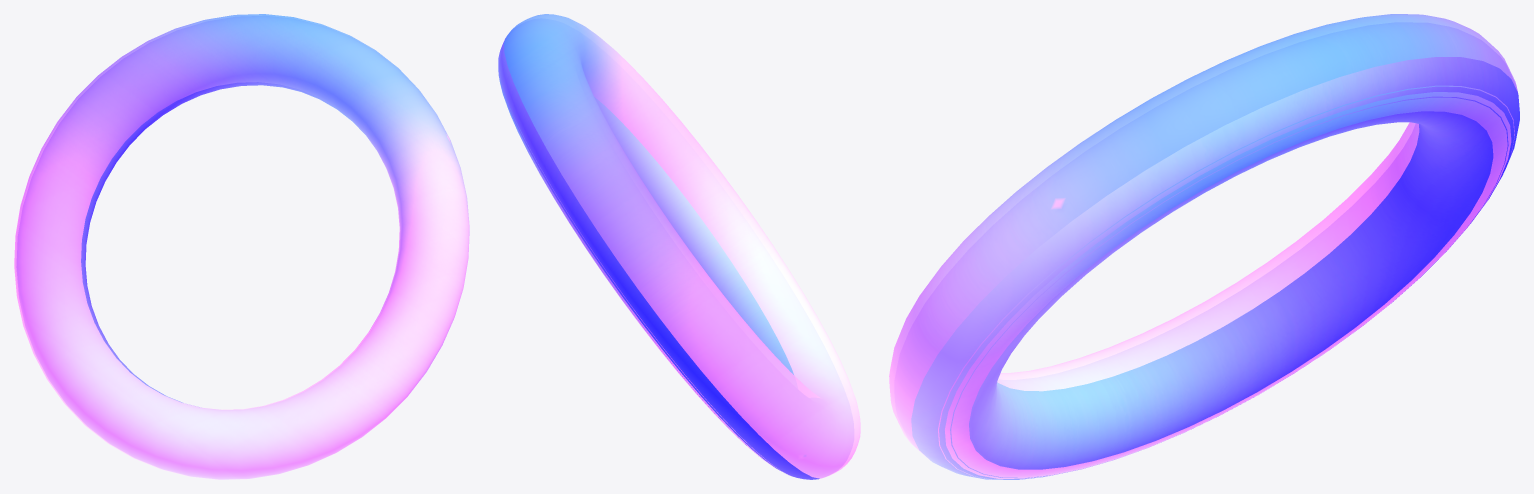
File: donut.glb
3 views of the same model, side by side, from view 1: azimuth 30°, elevation 25°; view 2: azimuth 150°, elevation 25°; view 3: azimuth 270°, elevation 25° (orthographic). The views are drawn at different scales.
Visible parts, largest first — view 1: Thin_Torus_2, Thin_Torus_1; view 2: Thin_Torus_2, Thin_Torus_1; view 3: Thin_Torus_1, Thin_Torus_2.
Part boxes in pixels (<box>): Thin_Torus_2: <box>14,14,469,479</box>; Thin_Torus_1: <box>81,82,442,407</box>; Thin_Torus_2: <box>498,14,860,478</box>; Thin_Torus_1: <box>498,38,819,479</box>; Thin_Torus_1: <box>911,57,1519,479</box>; Thin_Torus_2: <box>889,14,1517,479</box>.
Size of the model in its own units: 2.35 by 2.46 by 2.6.
2 materials, 2 textured.
